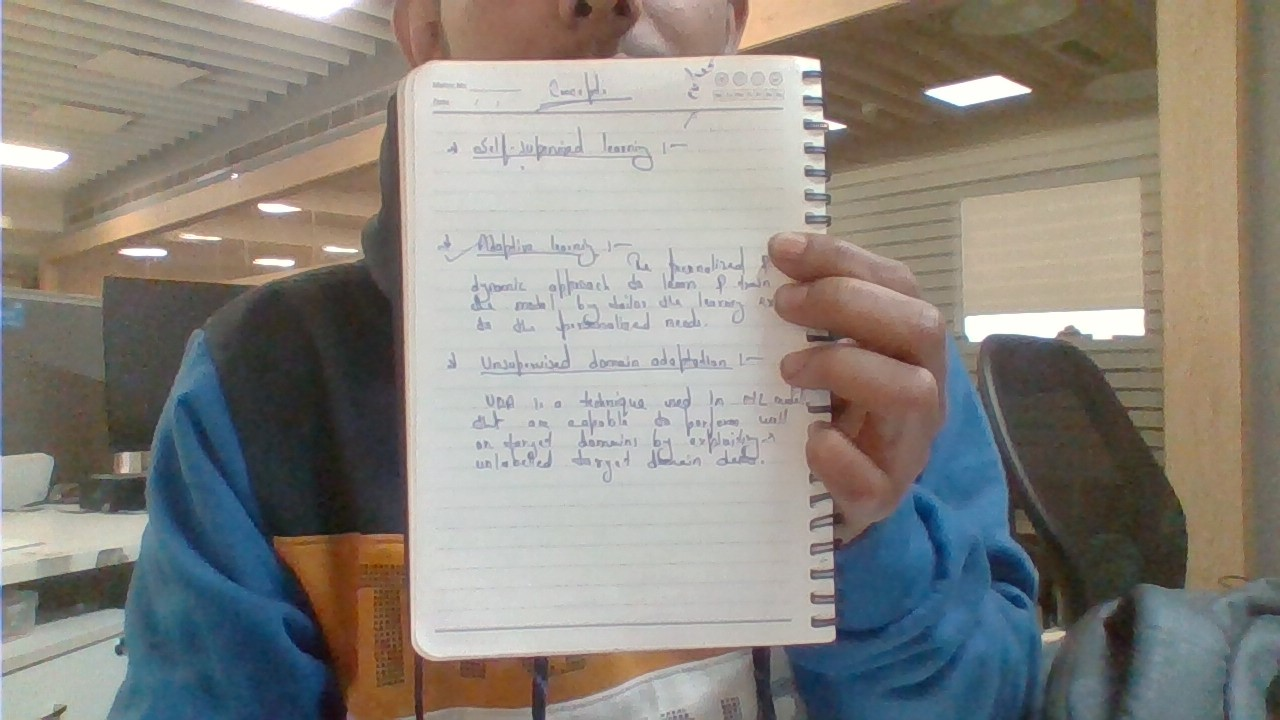notebook: (384, 52, 844, 659)
